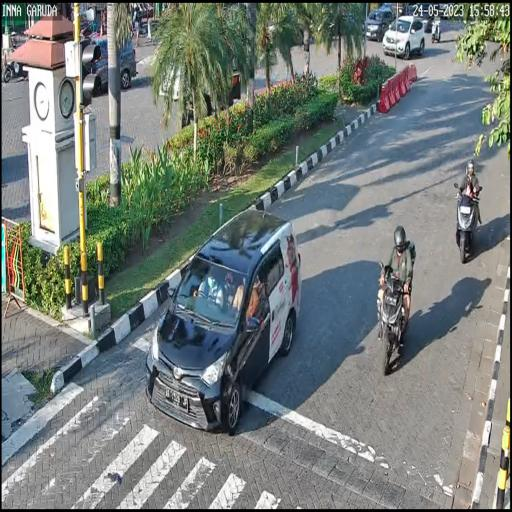mobil: (146, 206, 301, 432)
motor: (376, 260, 414, 372), (452, 181, 484, 266)
